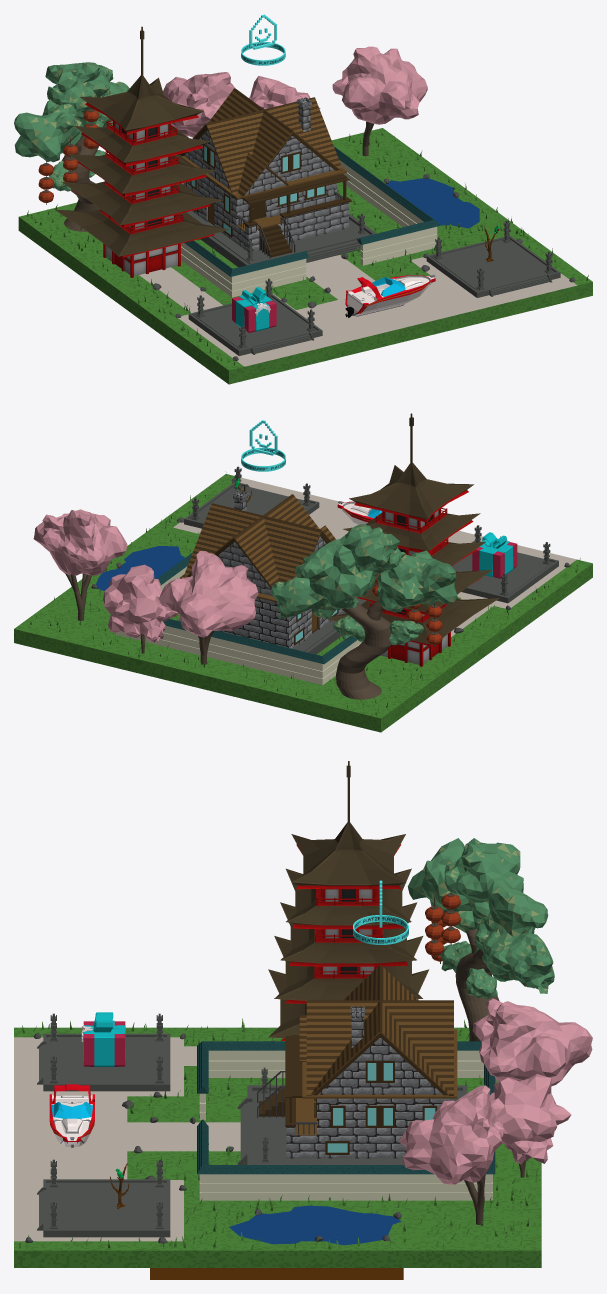
The picture shows the model from 3 angles, top to bottom: view 1: azimuth 30°, elevation 25°; view 2: azimuth 150°, elevation 25°; view 3: azimuth 270°, elevation 25°; orthographic projection. The views are drawn at different scales.
Parts seen in each view (by area): view 1: Cube.005, Cube.586, VEHICLES_BOAT, OBJRANDOM_GIANT_PRESENT, TYPE_PREMIUM; view 2: Cube.005, Cube.586, OBJRANDOM_GIANT_PRESENT, TYPE_PREMIUM, VEHICLES_BOAT; view 3: Cube.005, Cube.586, UNDERGROUND_ART_PIECE_VAN_GOGH, VEHICLES_BOAT, OBJRANDOM_GIANT_PRESENT, TYPE_PREMIUM.
Part boxes in pixels (x1,y1,x2,y2): Cube.005: (14,26,592,384); Cube.586: (177,88,351,258); VEHICLES_BOAT: (345,274,435,317); OBJRANDOM_GIANT_PRESENT: (232,287,276,332); TYPE_PREMIUM: (241,14,285,65); Cube.005: (14,413,592,732); Cube.586: (180,490,343,648); OBJRANDOM_GIANT_PRESENT: (472,532,517,578); TYPE_PREMIUM: (241,420,285,471); VEHICLES_BOAT: (337,501,382,524); Cube.005: (14,761,592,1267); Cube.586: (257,965,457,1158); UNDERGROUND_ART_PIECE_VAN_GOGH: (150,1268,403,1279); VEHICLES_BOAT: (49,1084,94,1147); OBJRANDOM_GIANT_PRESENT: (81,1012,125,1066); TYPE_PREMIUM: (353,880,408,944).
Bounding box in the file's own units: 4528 × 2816 × 4389.
Materials: 38 (8 with a texture image).
